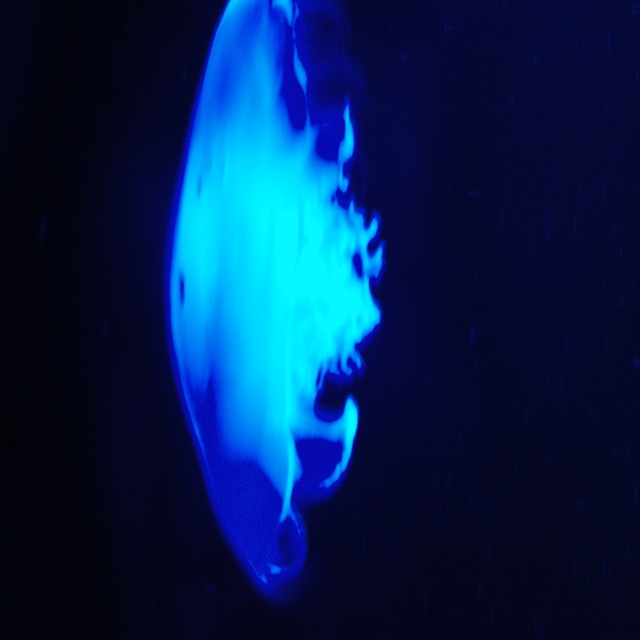Jellyfish: (162, 0, 390, 609)
